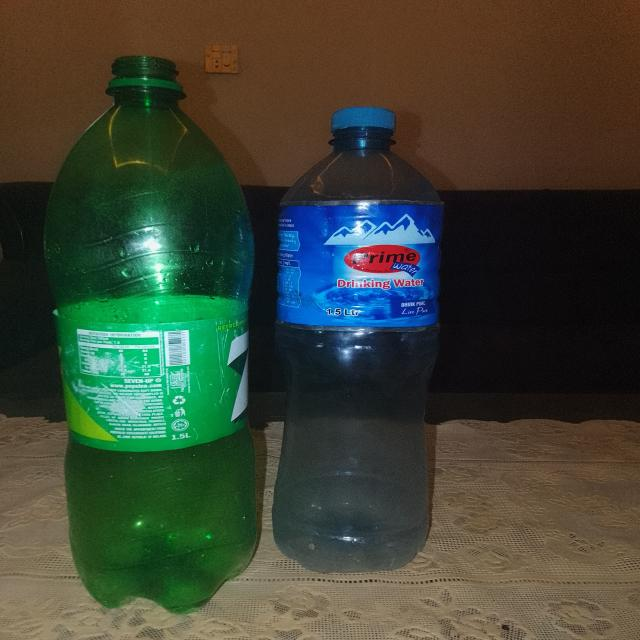bottle: (39, 40, 264, 618), (260, 94, 472, 581)
cap: (323, 104, 404, 142)
label: (47, 311, 256, 464), (277, 192, 454, 339)
